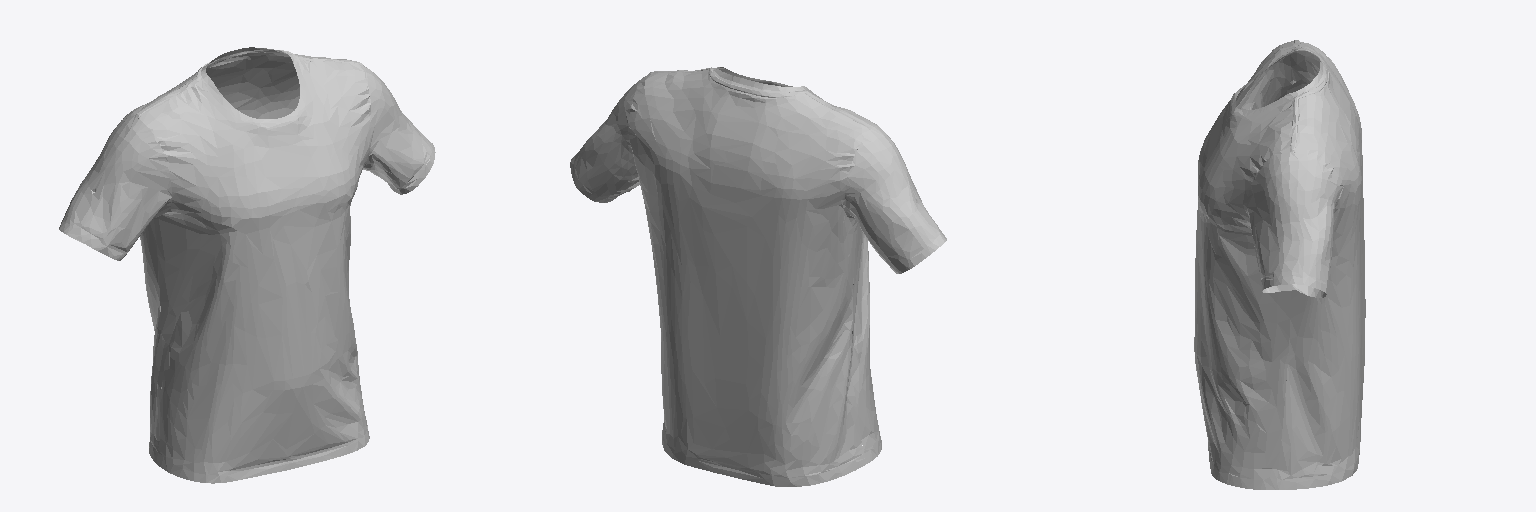
The model's file is tshirt_188_M_d95_scaled.obj.
The picture shows the model from 3 angles: view 1: azimuth 30°, elevation 25°; view 2: azimuth 150°, elevation 25°; view 3: azimuth 270°, elevation 25°; orthographic projection.
Parts seen in each view (by area): view 1: tshirt_188_M:Mesh1; view 2: tshirt_188_M:Mesh1; view 3: tshirt_188_M:Mesh1.
Boxes of the visible parts, <box> form: tshirt_188_M:Mesh1: <box>59,47,435,483</box>; tshirt_188_M:Mesh1: <box>570,67,946,486</box>; tshirt_188_M:Mesh1: <box>1194,40,1365,489</box>.
Size of the model in its own units: 2.13 by 2.11 by 0.8547.